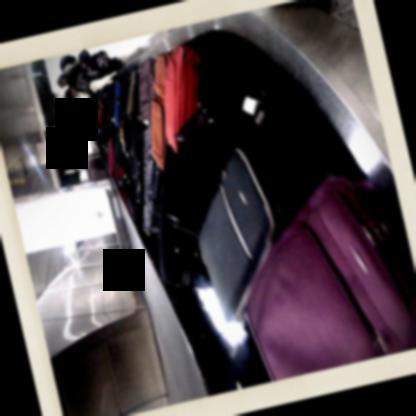backpack: (60, 54, 76, 72)
handbag: (78, 48, 91, 61)
suitcase: (242, 179, 416, 379), (199, 147, 272, 321), (158, 101, 220, 287), (164, 43, 201, 145), (151, 50, 171, 170), (138, 125, 160, 232), (114, 77, 129, 174), (96, 80, 114, 153), (138, 55, 156, 123), (124, 67, 139, 114), (107, 137, 124, 177)
